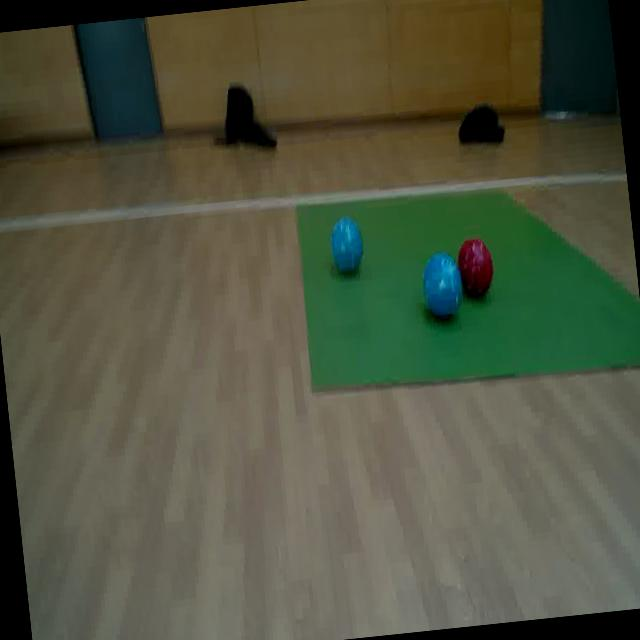blue_ball: (418, 250, 466, 321), (326, 214, 366, 276)
red_ball: (453, 237, 498, 300)
